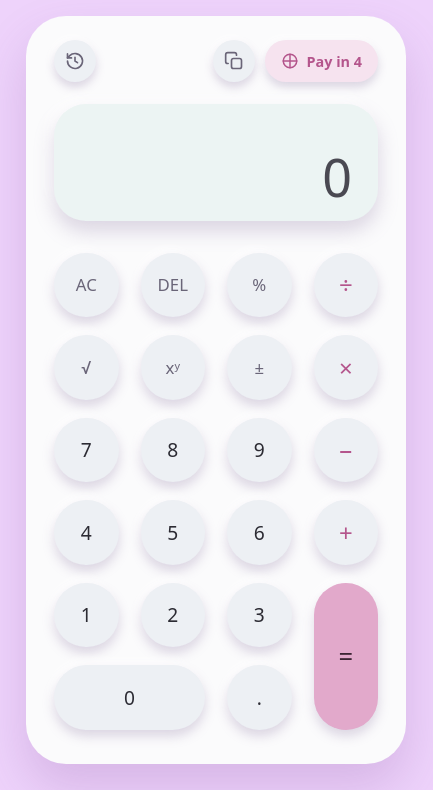
Test: Calculator › operator precedence › shows the intermediate result when a lower-precedence operator follows
The width and height of the screenshot is (433, 790).
Click the button "2". click: (173, 615)
box: top-left (140, 583), bottom-right (205, 647)
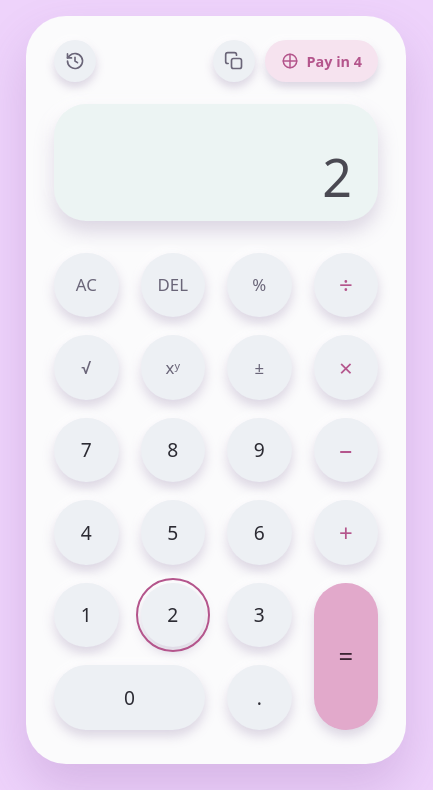
Click the button named "Multiply". click: (346, 367)
box: top-left (314, 335), bottom-right (378, 400)
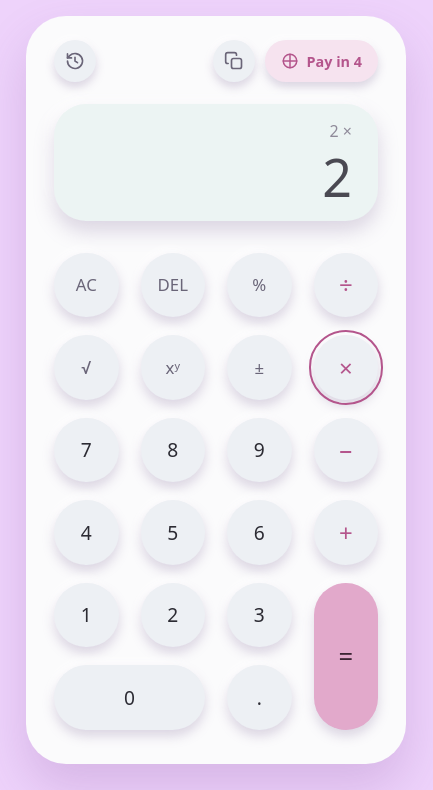
Click the button "3". click: (259, 615)
box: top-left (227, 583), bottom-right (292, 647)
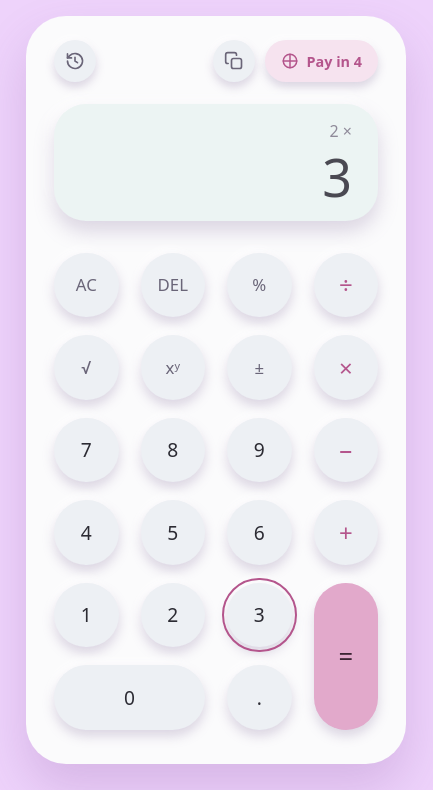
Click the button named "Add". click: (346, 532)
box: top-left (314, 500), bottom-right (378, 565)
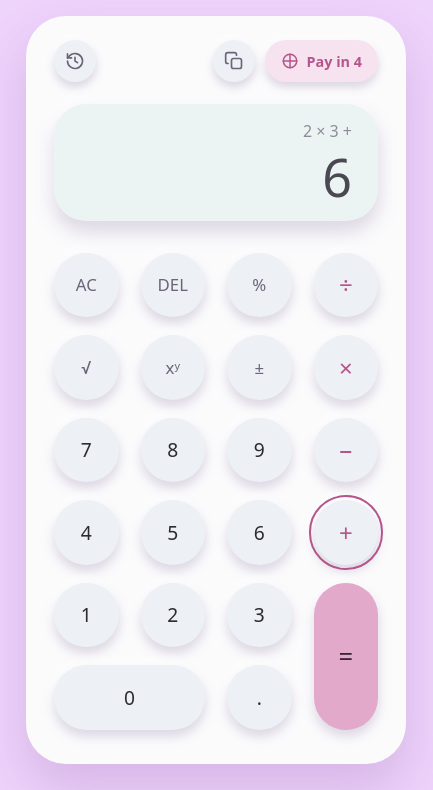
Expected: the text with test id "display-value" reads "6", top-left (322, 147), bottom-right (352, 207)
Expected: the text with test id "display-expression" reads "2 × 3 +", top-left (303, 120), bottom-right (352, 142)
Click the button "4". click: (86, 532)
box: top-left (54, 500), bottom-right (118, 565)
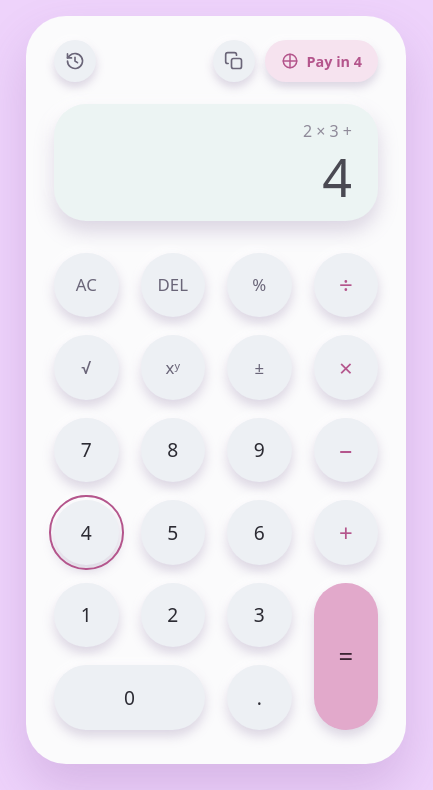
Click the button named "Equals". click: (346, 656)
box: top-left (314, 583), bottom-right (378, 730)
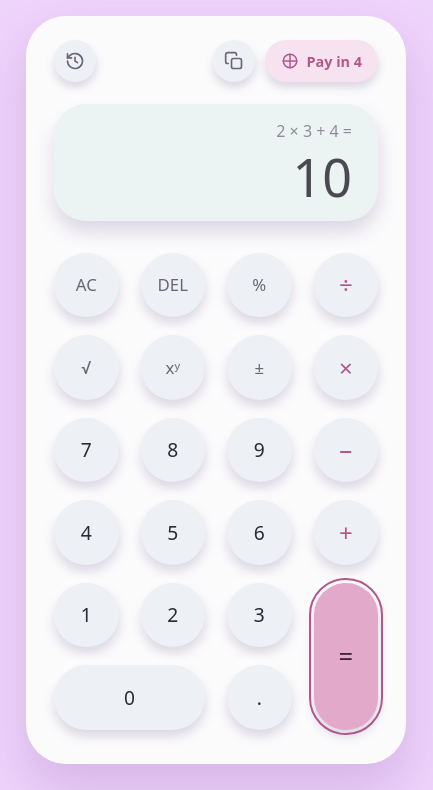
Expected: the text with test id "display-value" reads "10", top-left (292, 141), bottom-right (352, 212)
